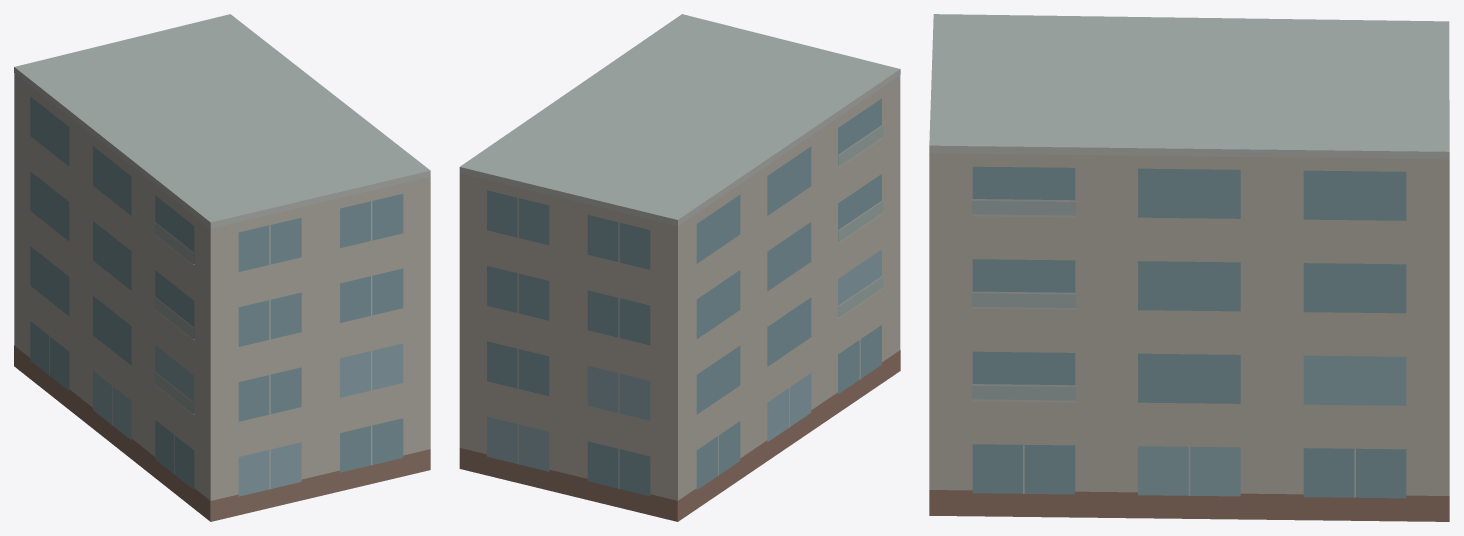
The model's file is survey-upis-32687133.glb.
The picture shows the model from 3 angles, left to right: view 1: azimuth 30°, elevation 25°; view 2: azimuth 150°, elevation 25°; view 3: azimuth 270°, elevation 25°; orthographic projection. The views are drawn at different scales.
Visible parts, largest first — view 1: survey-upis-32687133.tmp; view 2: survey-upis-32687133.tmp; view 3: survey-upis-32687133.tmp.
Boxes of the visible parts, x1,y1,x2,y2 form: survey-upis-32687133.tmp: (14,14,430,521); survey-upis-32687133.tmp: (459,14,900,521); survey-upis-32687133.tmp: (929,14,1449,521).
Size of the model in its own units: 9.67 by 12.1 by 15.43.
